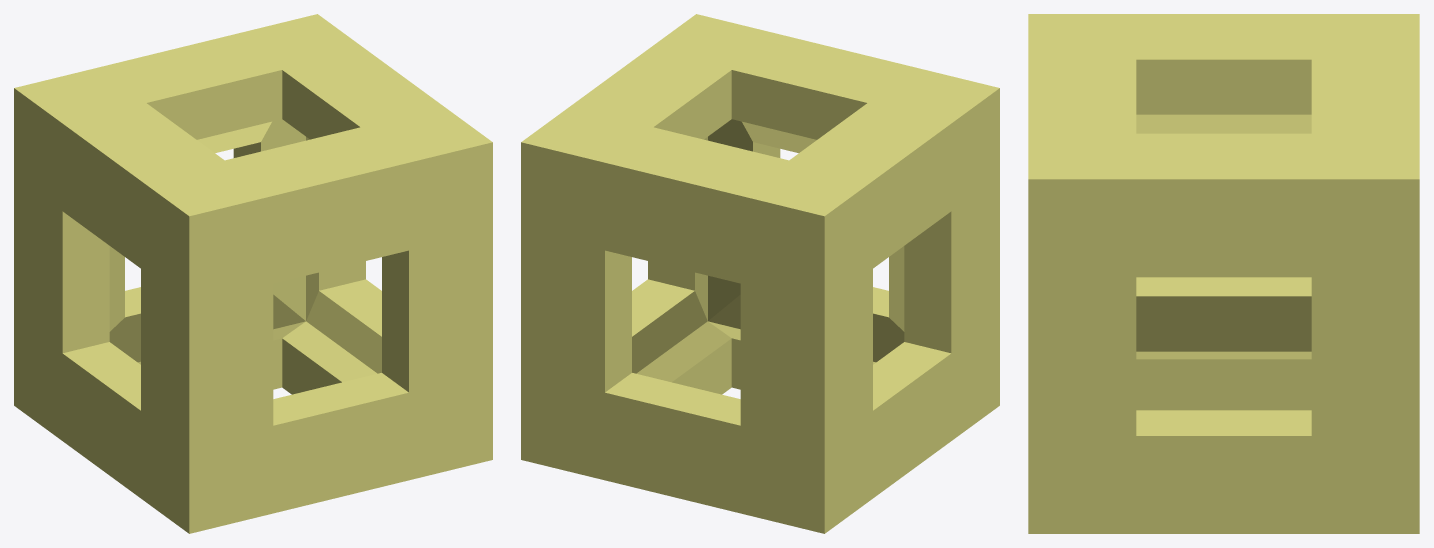
3 views of the same model, side by side, from view 1: azimuth 30°, elevation 25°; view 2: azimuth 150°, elevation 25°; view 3: azimuth 270°, elevation 25° (orthographic). The views are drawn at different scales.
Visible parts, largest first — view 1: Cube; view 2: Cube; view 3: Cube.
Part boxes in pixels (left/top/right/bottom): Cube: left=14, top=14, right=492, bottom=533; Cube: left=521, top=14, right=999, bottom=533; Cube: left=1028, top=14, right=1419, bottom=533.
Bounding box in the file's own units: 2 × 2 × 2.
